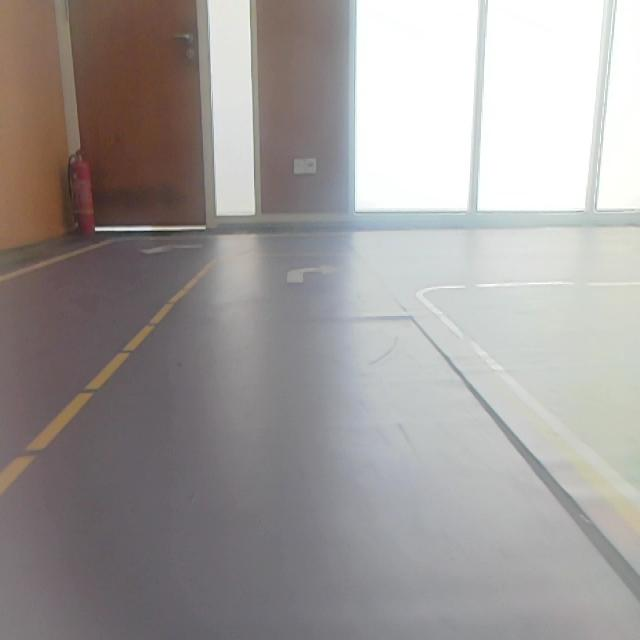left_lane: (0, 266, 208, 499)
right_lane: (423, 297, 640, 529)
